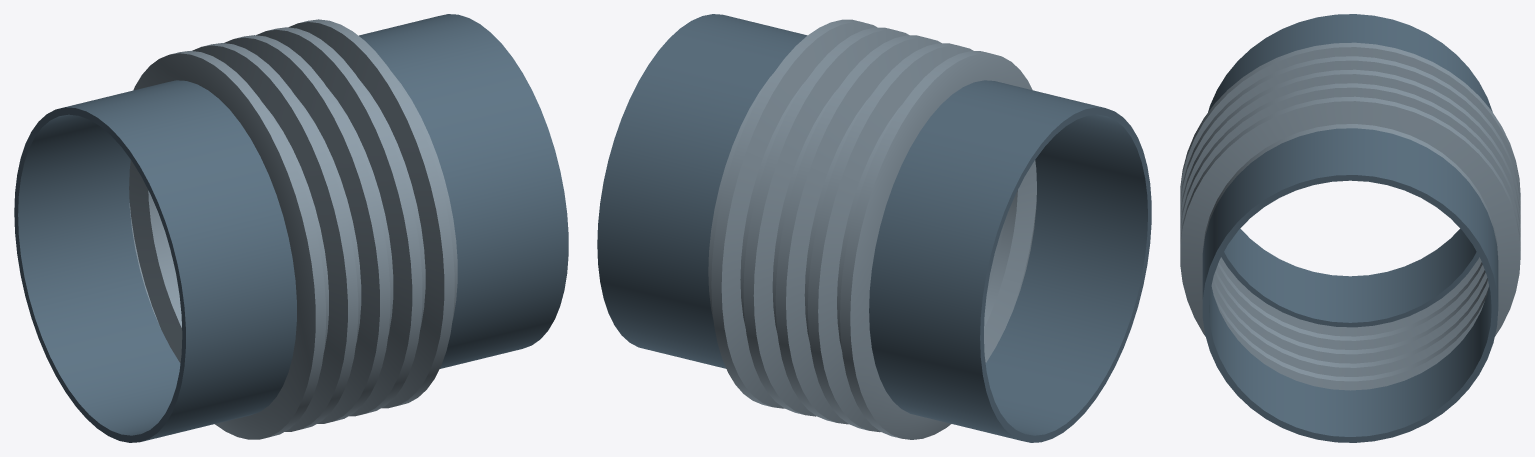
File: silf-dn350-L485-D377.glb
The picture shows the model from 3 angles, left to right: view 1: azimuth 30°, elevation 25°; view 2: azimuth 150°, elevation 25°; view 3: azimuth 270°, elevation 25°; orthographic projection. The views are drawn at different scales.
Parts seen in each view (by area): view 1: patrubok_1, prokladka_silfon_1, patrubok_2; view 2: patrubok_1, prokladka_silfon_1, patrubok_2; view 3: prokladka_silfon_1, patrubok_2, patrubok_1.
Boxes of the visible parts, x1,y1,x2,y2 form: patrubok_1: (14,80,296,442); prokladka_silfon_1: (129,19,457,439); patrubok_2: (359,14,568,368); patrubok_1: (869,80,1151,442); prokladka_silfon_1: (708,19,1036,439); patrubok_2: (597,14,807,368); prokladka_silfon_1: (1180,42,1520,390); patrubok_2: (1202,128,1498,442); patrubok_1: (1208,14,1492,327).
Size of the model in its own units: 485 by 434 by 434.
